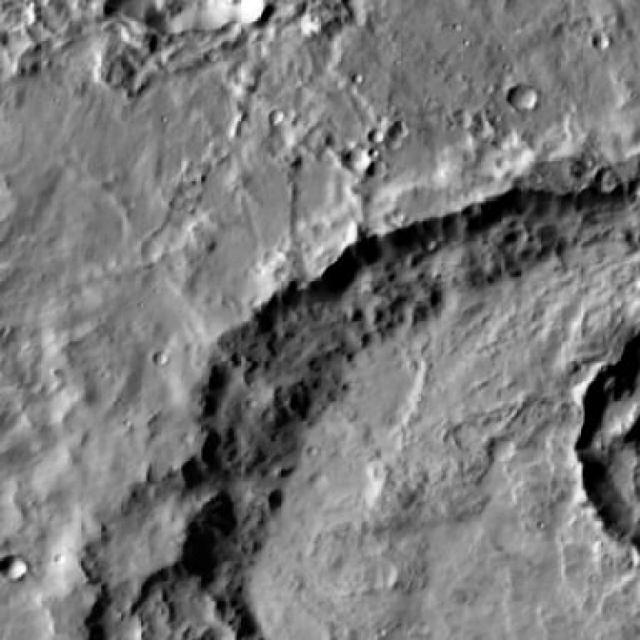crater: (217, 177, 640, 640), (162, 0, 268, 32), (514, 85, 541, 109), (346, 152, 372, 175), (4, 558, 30, 580), (474, 125, 494, 144), (593, 30, 612, 47)
